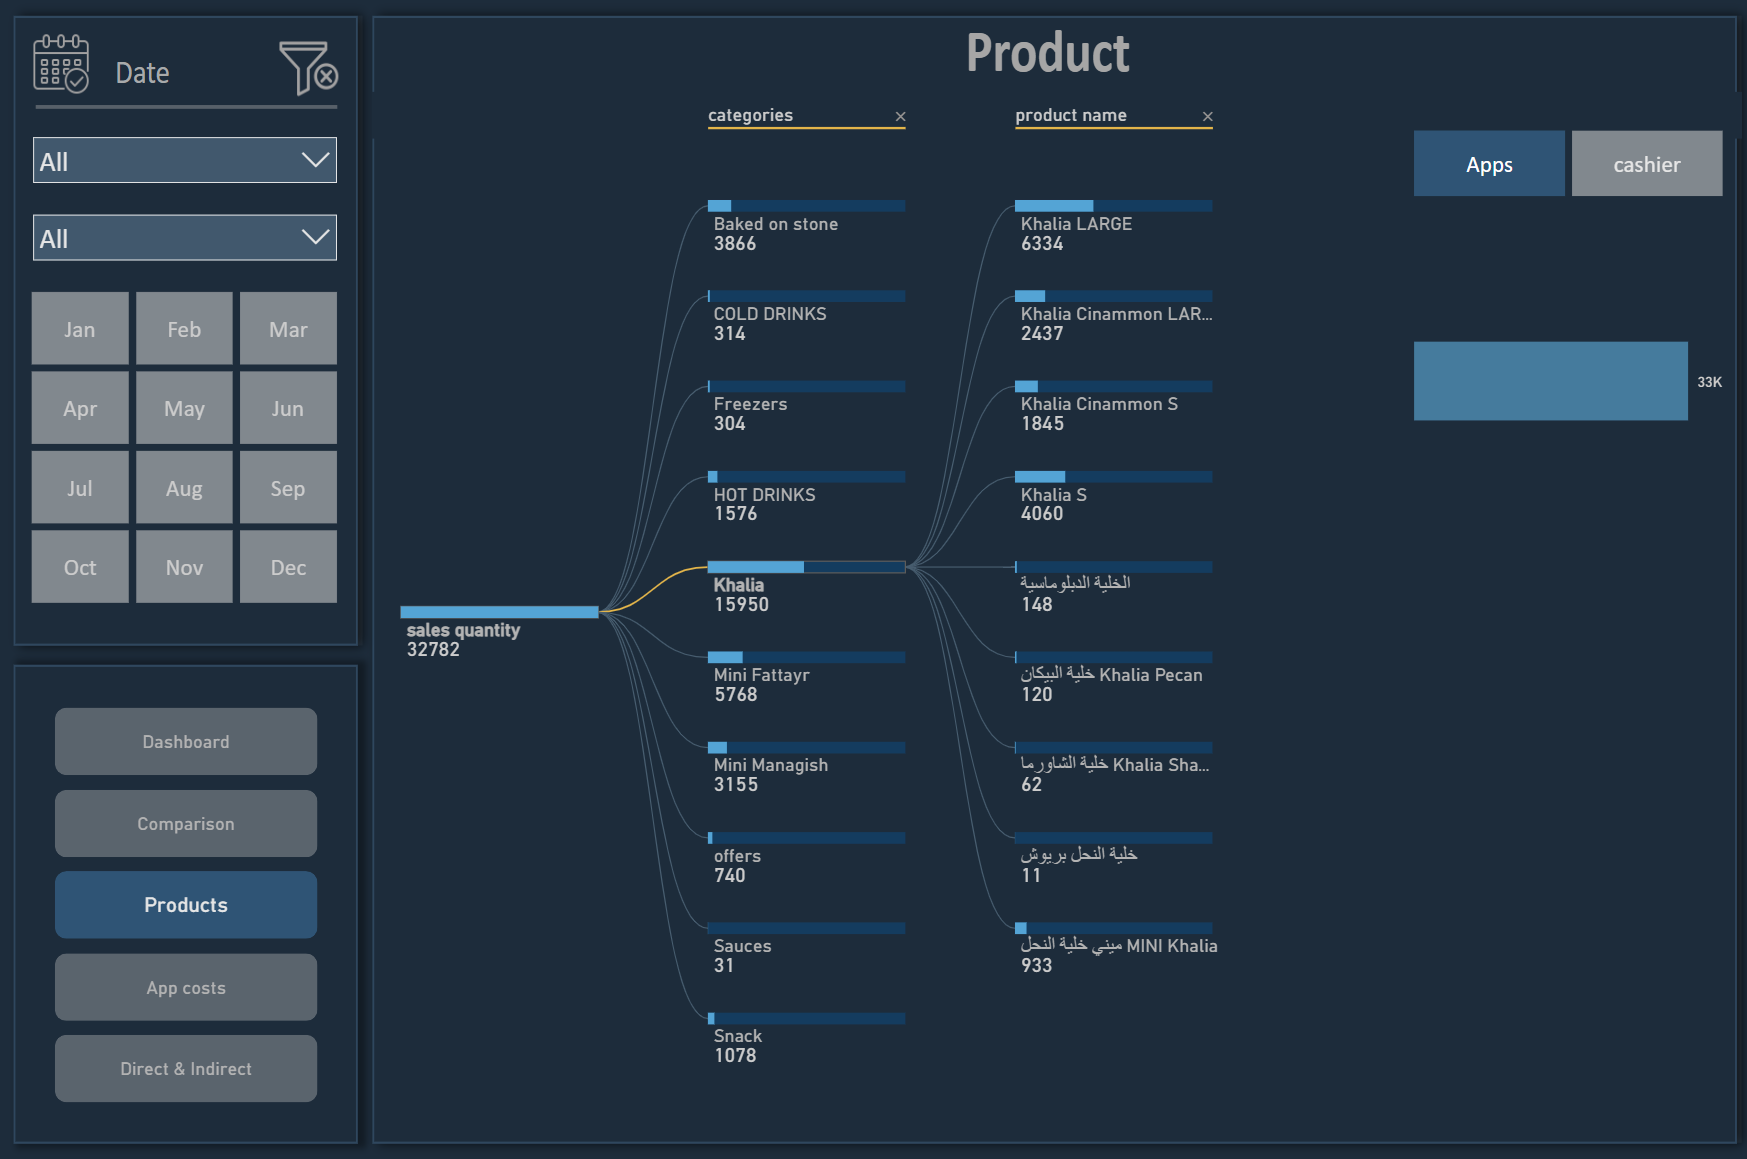

This screenshot's page, from the dashboard's own definition file:
{"tool":"powerbi","page":{"name":"Products","canvas":[1500,1000],"ordinal":2},"visuals":[{"type":"advancedSlicerVisual","title":"month filter","fields":{"Values":["DATE.month 2"]},"box":[26,249,272,277],"z":0},{"type":"pageNavigator","box":[50,610,225.6,340.2],"z":1000},{"type":"actionButton","title":"clear filter products","box":[241.5,37.8,52.4,46.3],"z":2000},{"type":"slicer","title":"date quarter products","fields":{"Values":["DATE.quarter"]},"box":[21,177.8,280,60],"z":3000},{"type":"slicer","title":"date years products","fields":{"Values":["DATE.Date.Variation.Date Hierarchy.Year"]},"box":[21,111.1,280,60],"z":4000},{"type":"decompositionTreeVisual","fields":{"Analyze":["A MEASURE.sales quantity"],"ExplainBy":["products.categories","products.product name"]},"box":[317.1,78,1182.9,900],"z":5000},{"type":"advancedSlicerVisual","fields":{"Values":["products.type"]},"box":[1208.8,111.3,274.9,66.3],"z":6000},{"type":"clusteredBarChart","fields":{"Y":["A SALES.sales quantity"],"Category":["products.type"]},"box":[1208.5,193.9,275.6,270.7],"z":7000}]}

Visuals, with their boxes on the page's 1500x1000 design canvas (x1, y1, x2, y2). These are canvas units, not pixel positions in the 1747x1159 screenshot, which may show the page scaled, cropped or inside an application window:
"month filter" advancedSlicerVisual: box=[26, 249, 298, 526]
pageNavigator: box=[50, 610, 276, 950]
"clear filter products" actionButton: box=[242, 38, 294, 84]
"date quarter products" slicer: box=[21, 178, 301, 238]
"date years products" slicer: box=[21, 111, 301, 171]
decompositionTreeVisual - A MEASURE.sales quantity x products.categories: box=[317, 78, 1500, 978]
advancedSlicerVisual - products.type: box=[1209, 111, 1484, 178]
clusteredBarChart - A SALES.sales quantity x products.type: box=[1208, 194, 1484, 465]
